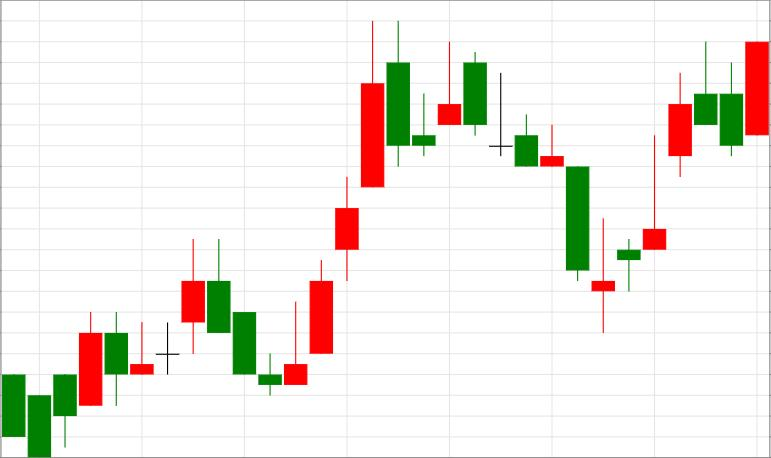three_white_soldiers_rise: (208, 18, 384, 397)
